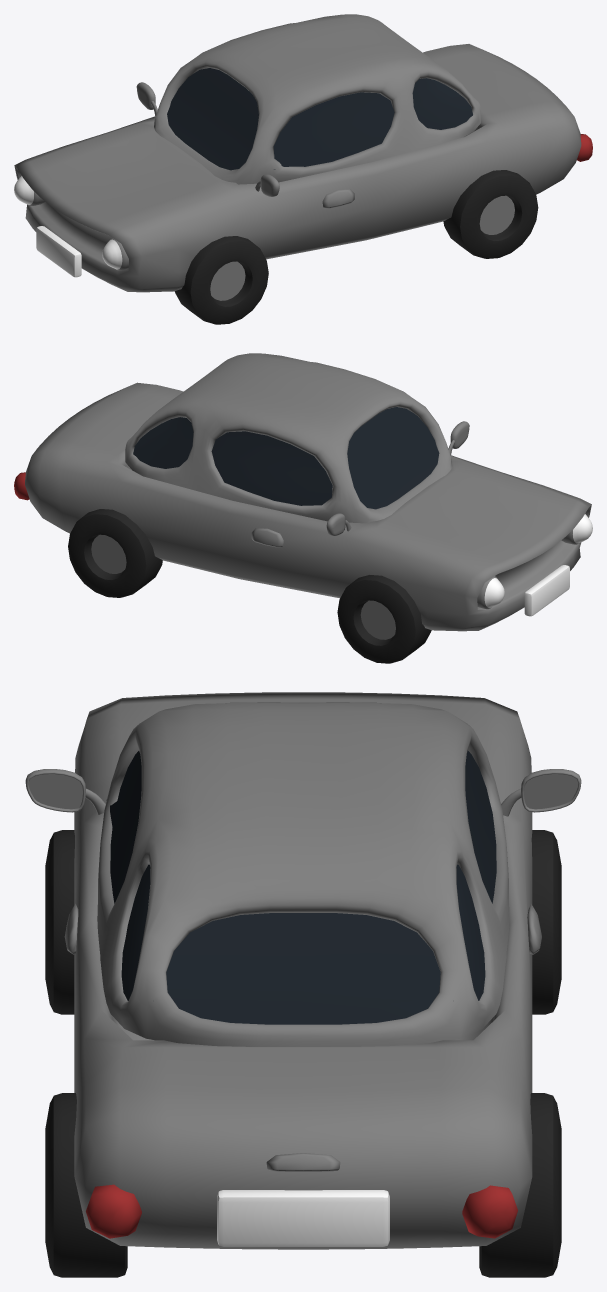
File: SM_car_02.fbx
The picture shows the model from 3 angles, top to bottom: view 1: azimuth 30°, elevation 25°; view 2: azimuth 150°, elevation 25°; view 3: azimuth 270°, elevation 25°; orthographic projection. The views are drawn at different scales.
Visible parts, largest first — view 1: Object292; view 2: Object292; view 3: Object292.
Boxes of the visible parts, box(x1,y1,x2,y2) form: Object292: box(14, 14, 592, 324); Object292: box(14, 353, 592, 663); Object292: box(25, 692, 581, 1277).
Bounding box in the file's own units: 196 × 72.52 × 94.41.
